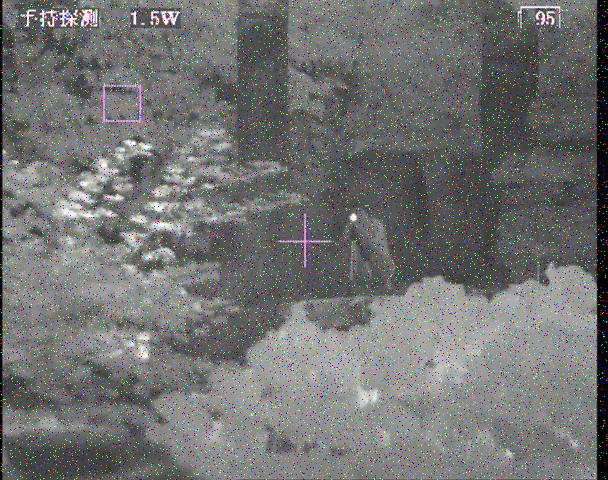my: (349, 212, 358, 224)
